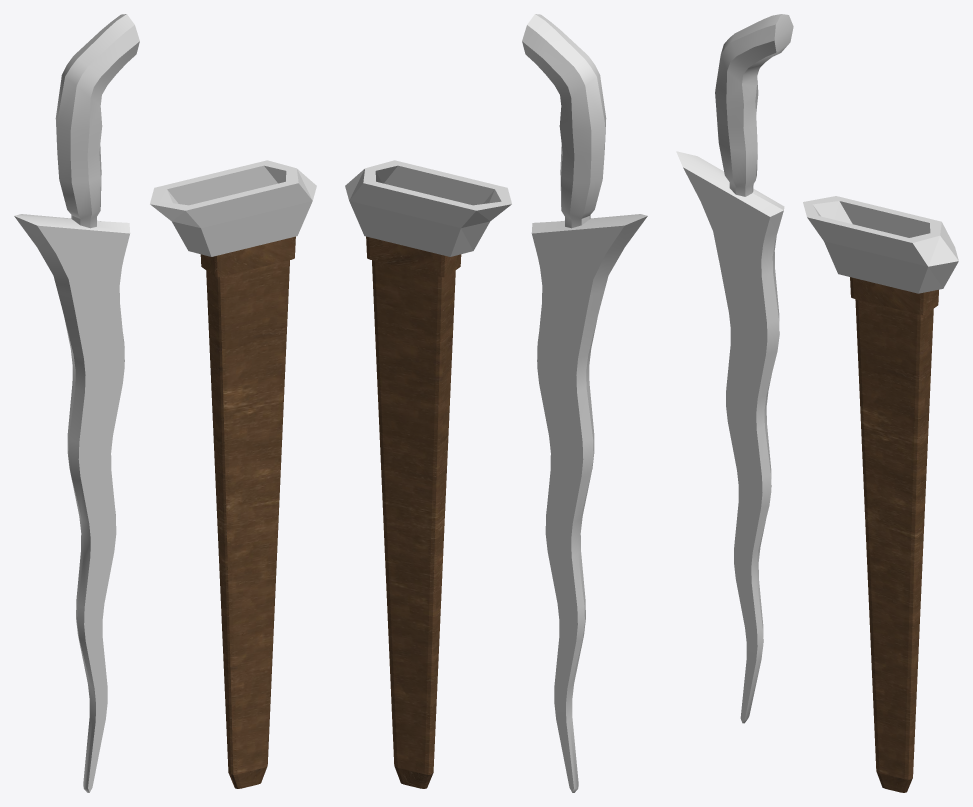
Rendered from Keris.dae.
The picture shows the model from 3 angles, left to right: view 1: azimuth 30°, elevation 25°; view 2: azimuth 150°, elevation 25°; view 3: azimuth 330°, elevation 25°; orthographic projection. The views are drawn at different scales.
Visible parts, largest first — view 1: Cylinder.004; view 2: Cylinder.004; view 3: Cylinder.004.
Part boxes in pixels (<box>): Cylinder.004: <box>14,14,316,792</box>; Cylinder.004: <box>345,14,647,792</box>; Cylinder.004: <box>676,14,958,792</box>.
Bounding box in the file's own units: 0.5302 × 0.0948 × 1.34.
